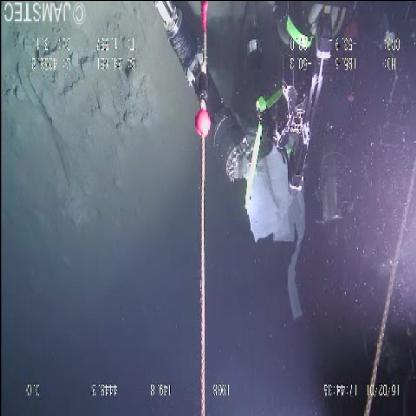Rov: (150, 1, 334, 194)
Rác: (238, 141, 309, 266)
